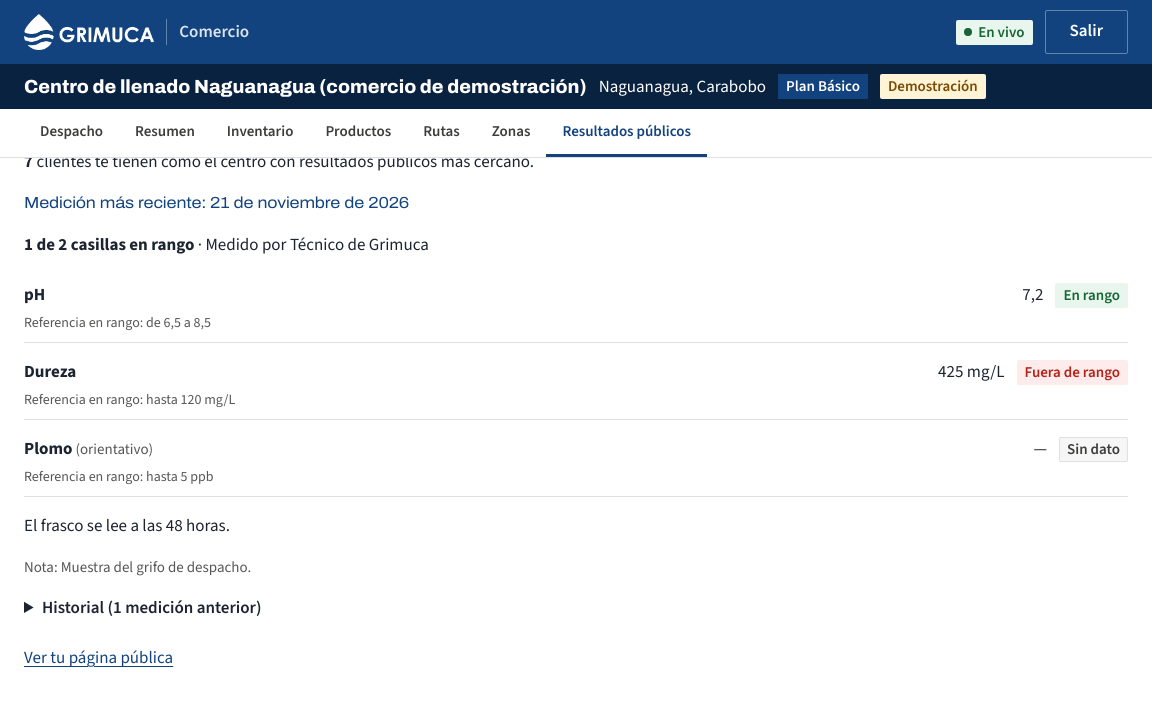
it: pestaña Resultados públicos › muestra los clientes cercanos, la medición más reciente tal cual y el historial
(page scrolled)
Check: the heading "Centro de llenado · El Naranjal" is shown, box x1=24 y1=102 x2=393 y2=132
Check: the text "Medición orientativa con tira, no es un análisis de laboratorio." is shown, box x1=43 y1=41 x2=477 y2=65
What coordinates should you click on to do the following:
click the heading "Historial (1 medición anterior)"
I would click on:
 (152, 608)
Its box is x1=42 y1=596 x2=262 y2=620.
(page scrolled)
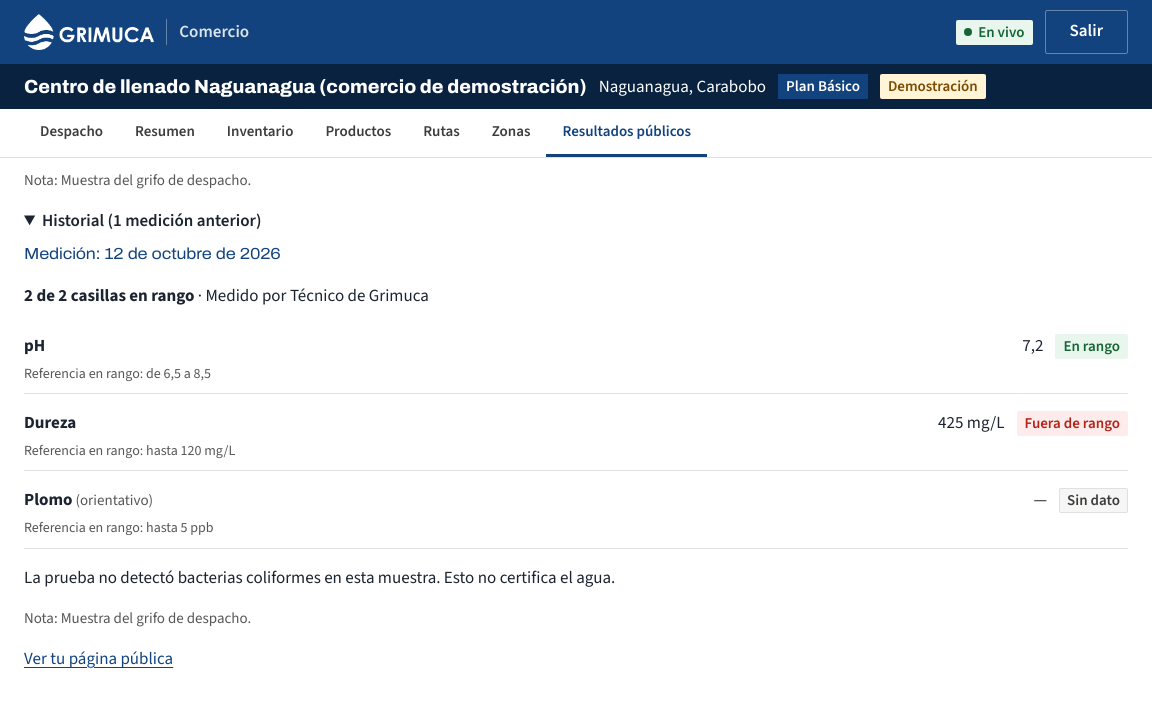
Check: the text "La prueba no detectó bacterias coliformes en esta muestra. Esto no certifica el agua." is shown, box x1=24 y1=566 x2=615 y2=590
